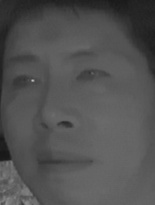eye: (73, 66, 111, 87), (10, 71, 44, 92)
mouth: (33, 142, 95, 178)
